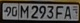0: (12, 6, 18, 17)
2: (31, 5, 39, 18)
3: (46, 5, 55, 19)
9: (38, 5, 47, 19), (4, 6, 12, 18)
A: (64, 5, 73, 20)
F: (55, 5, 64, 20)
M: (20, 5, 29, 20)
